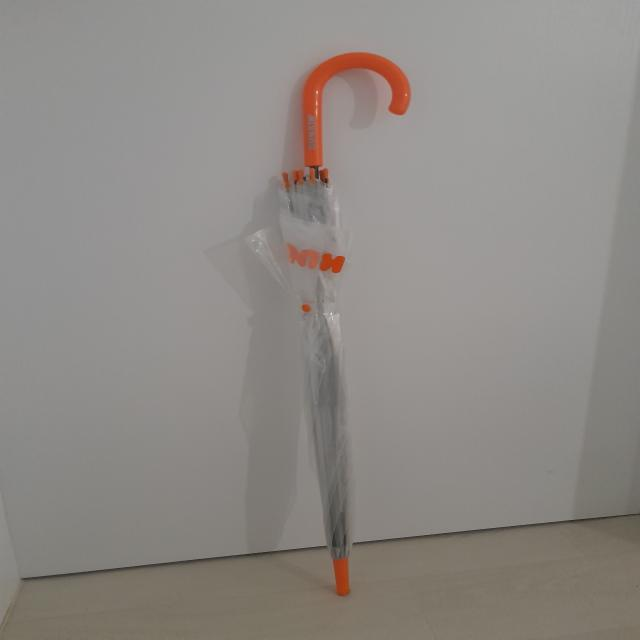umbrella: (254, 54, 410, 596)
